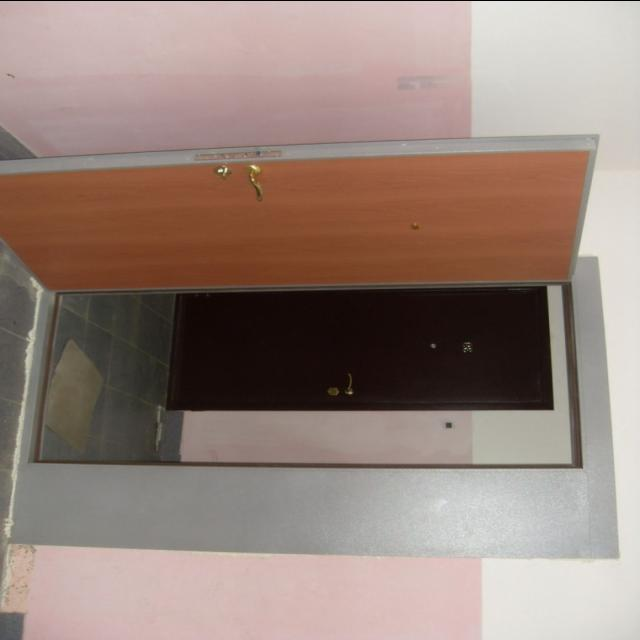close: (170, 286, 554, 410)
open: (6, 143, 586, 468)
